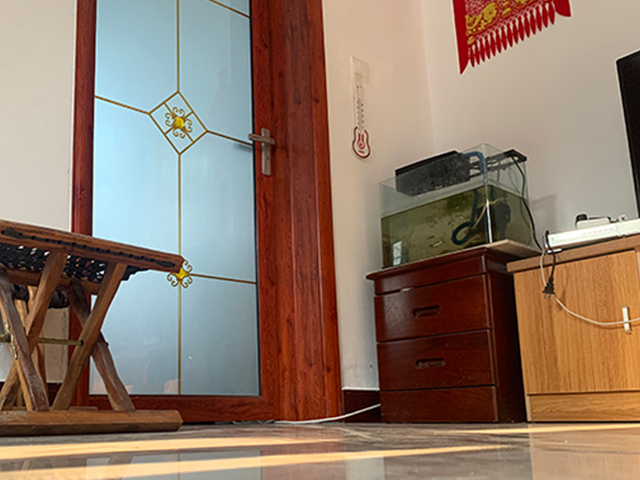cabinet: (364, 245, 525, 423), (505, 228, 640, 424)
stool: (1, 217, 186, 436)
wire: (271, 402, 381, 426)
